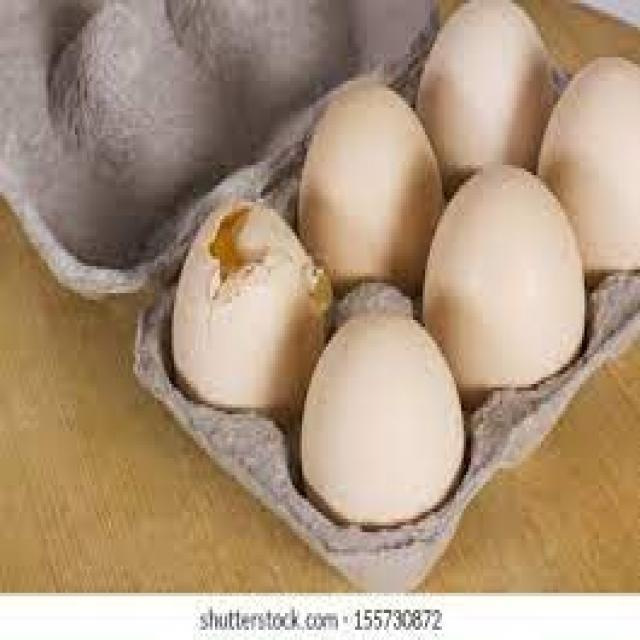biodegradable: (434, 158, 584, 382), (299, 306, 464, 509), (176, 197, 323, 412), (302, 78, 436, 275), (541, 49, 640, 271), (422, 0, 548, 158)
